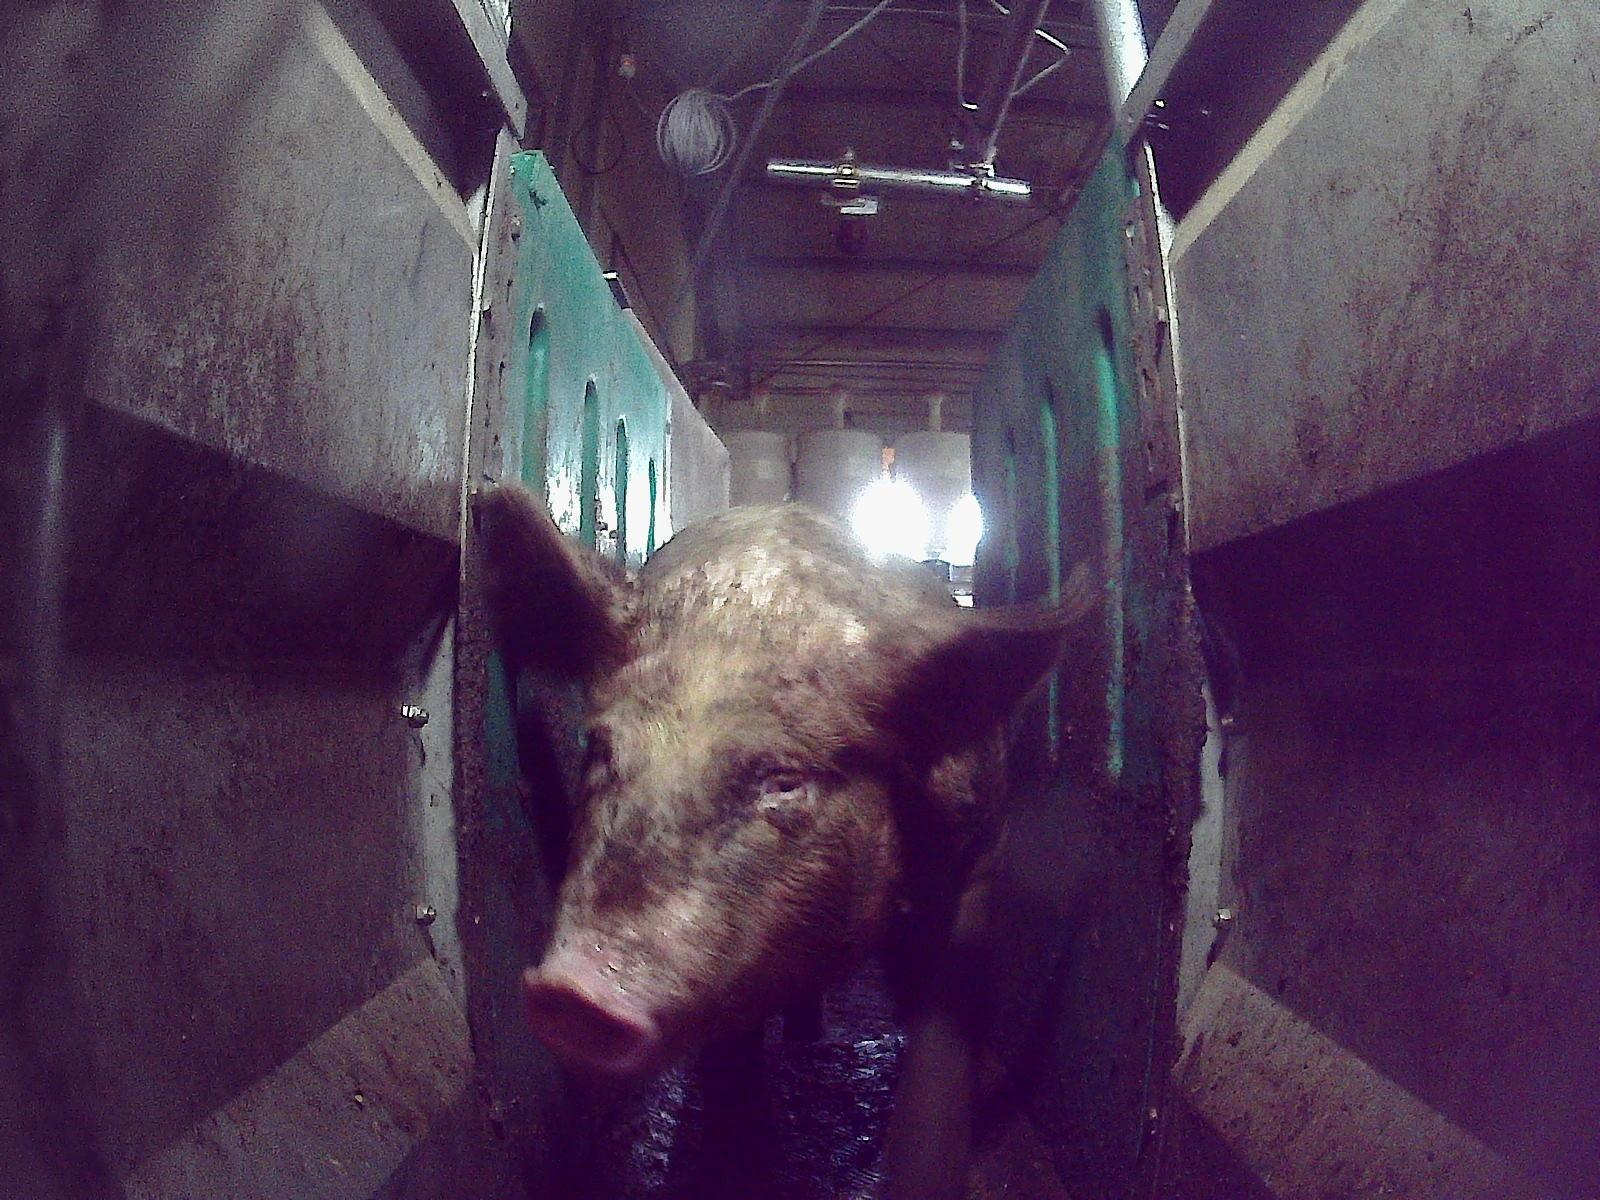Face: (521, 590, 886, 1074)
